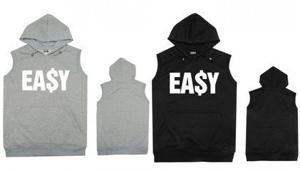C_vest: (149, 10, 241, 168), (4, 12, 91, 160), (91, 56, 152, 159), (242, 62, 299, 166)
